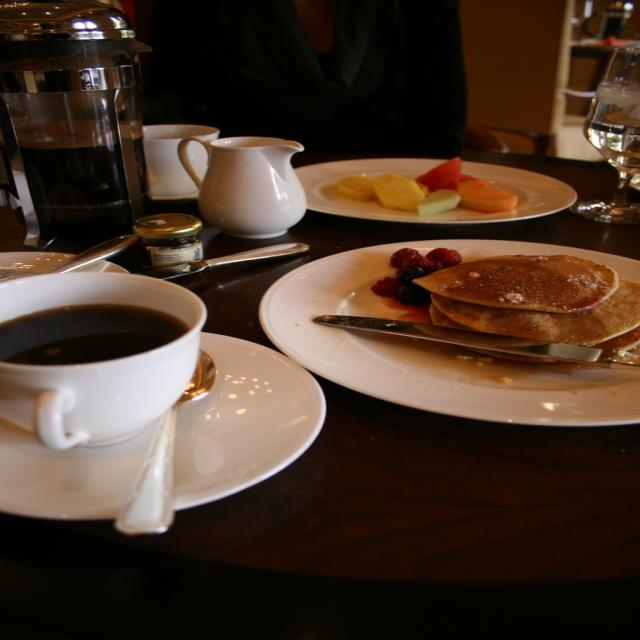Coffee: (0, 300, 197, 366)
Tea: (0, 304, 195, 368)
